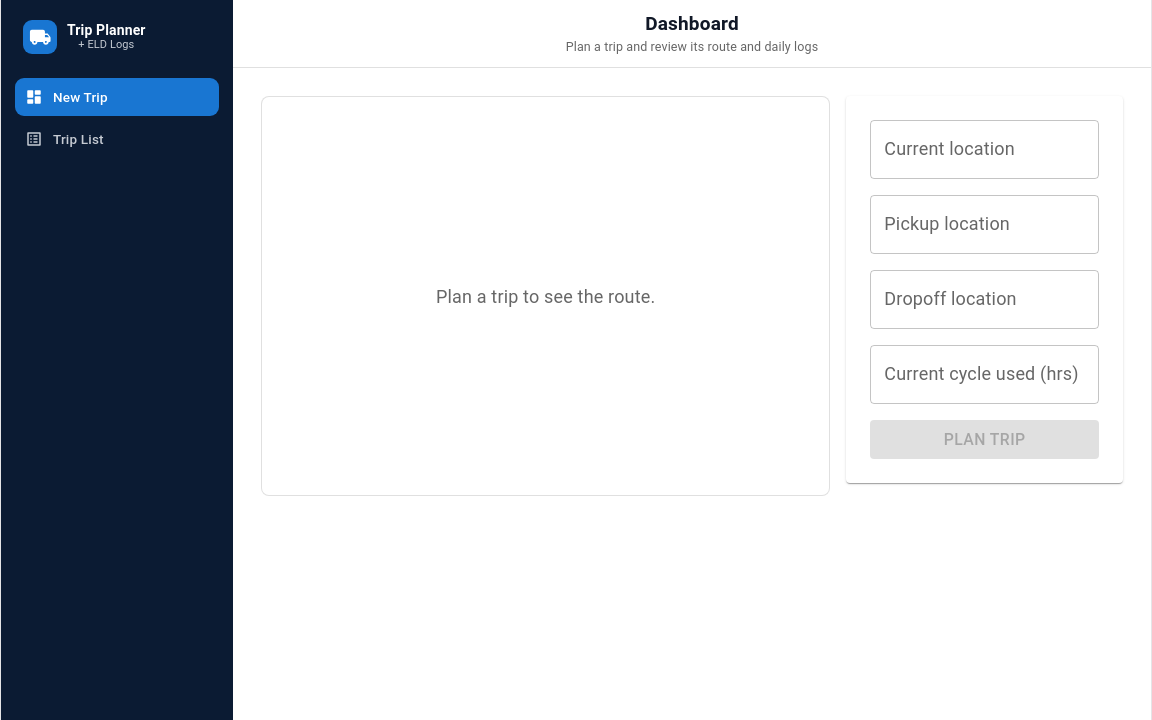
Test: shows the Dashboard by default and navigates to Trips List
Expected: the heading "Dashboard" is shown, [645,12,739,35]
Click the link "Trip List" at (64, 139), box [25,130,104,148]
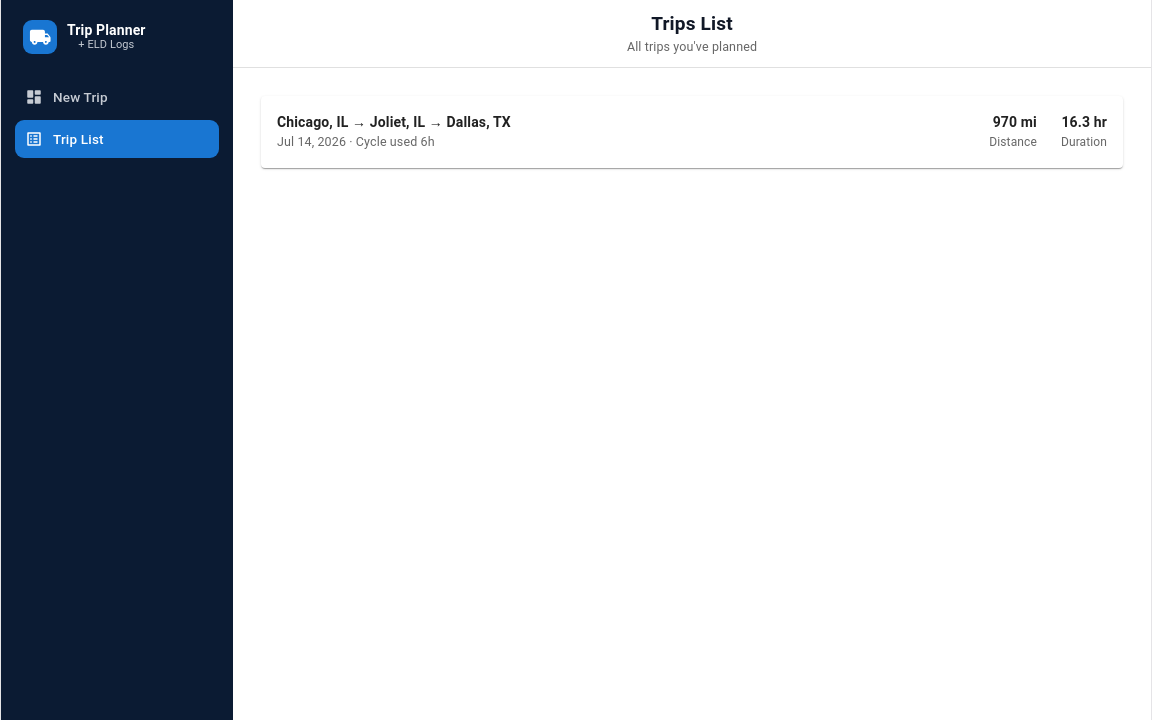
Expected: the heading "Trips List" is shown, [651,12,733,35]
